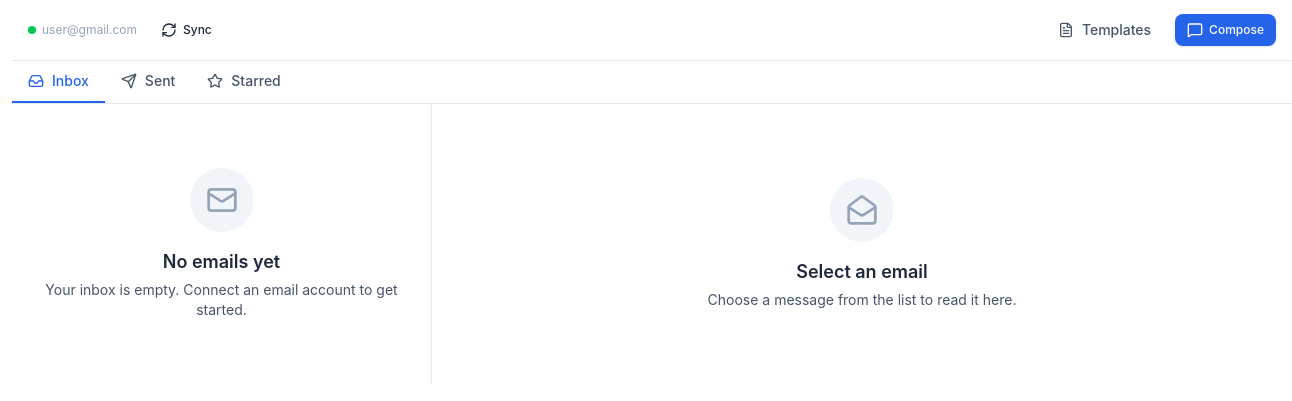
EmailPage — Email List States › shows empty state for sent tab when clicked
The width and height of the screenshot is (1292, 401).
Click the button "Sent".
click(148, 82)  # box [105,61,191,103]
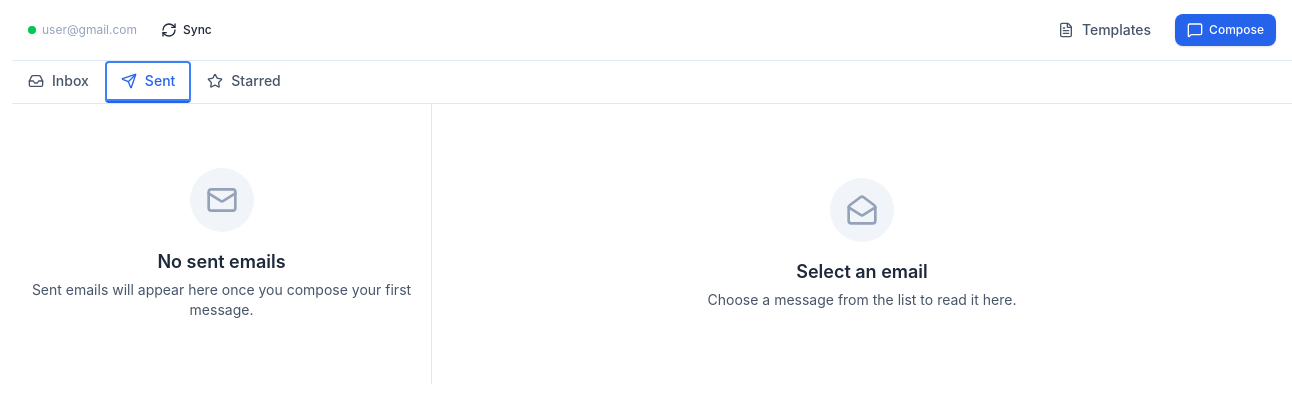
Expected: the heading "No sent emails" is shown, [158,248,286,276]
